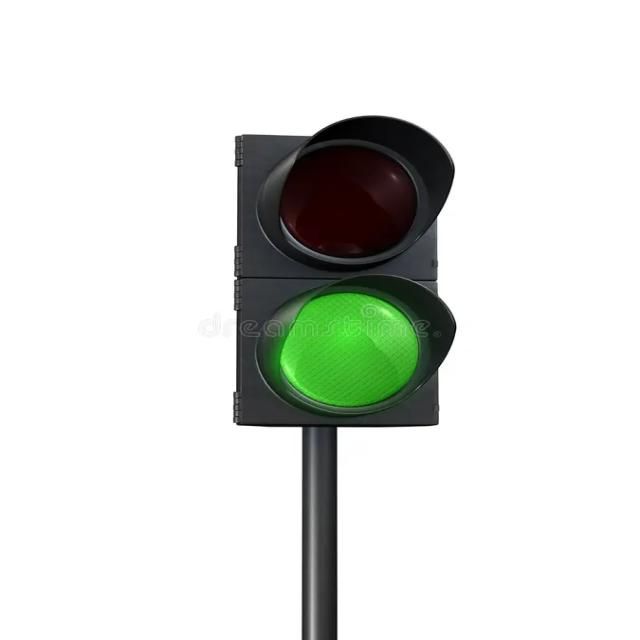green: (268, 280, 436, 416)
